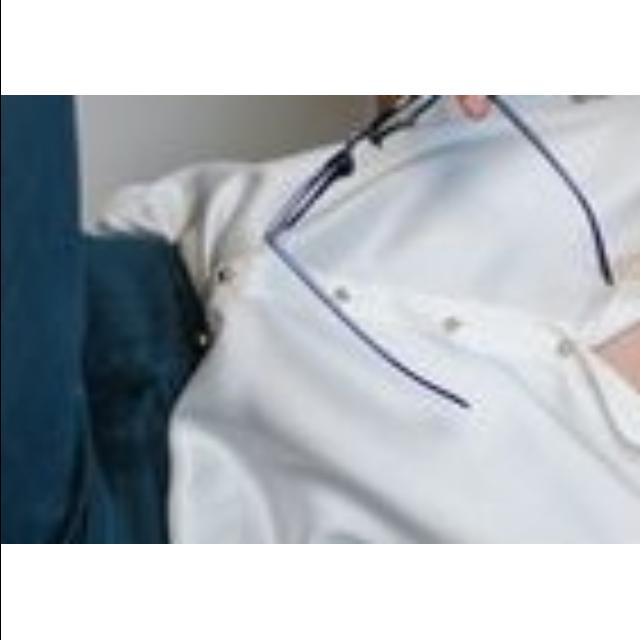silk: (196, 96, 640, 544)
